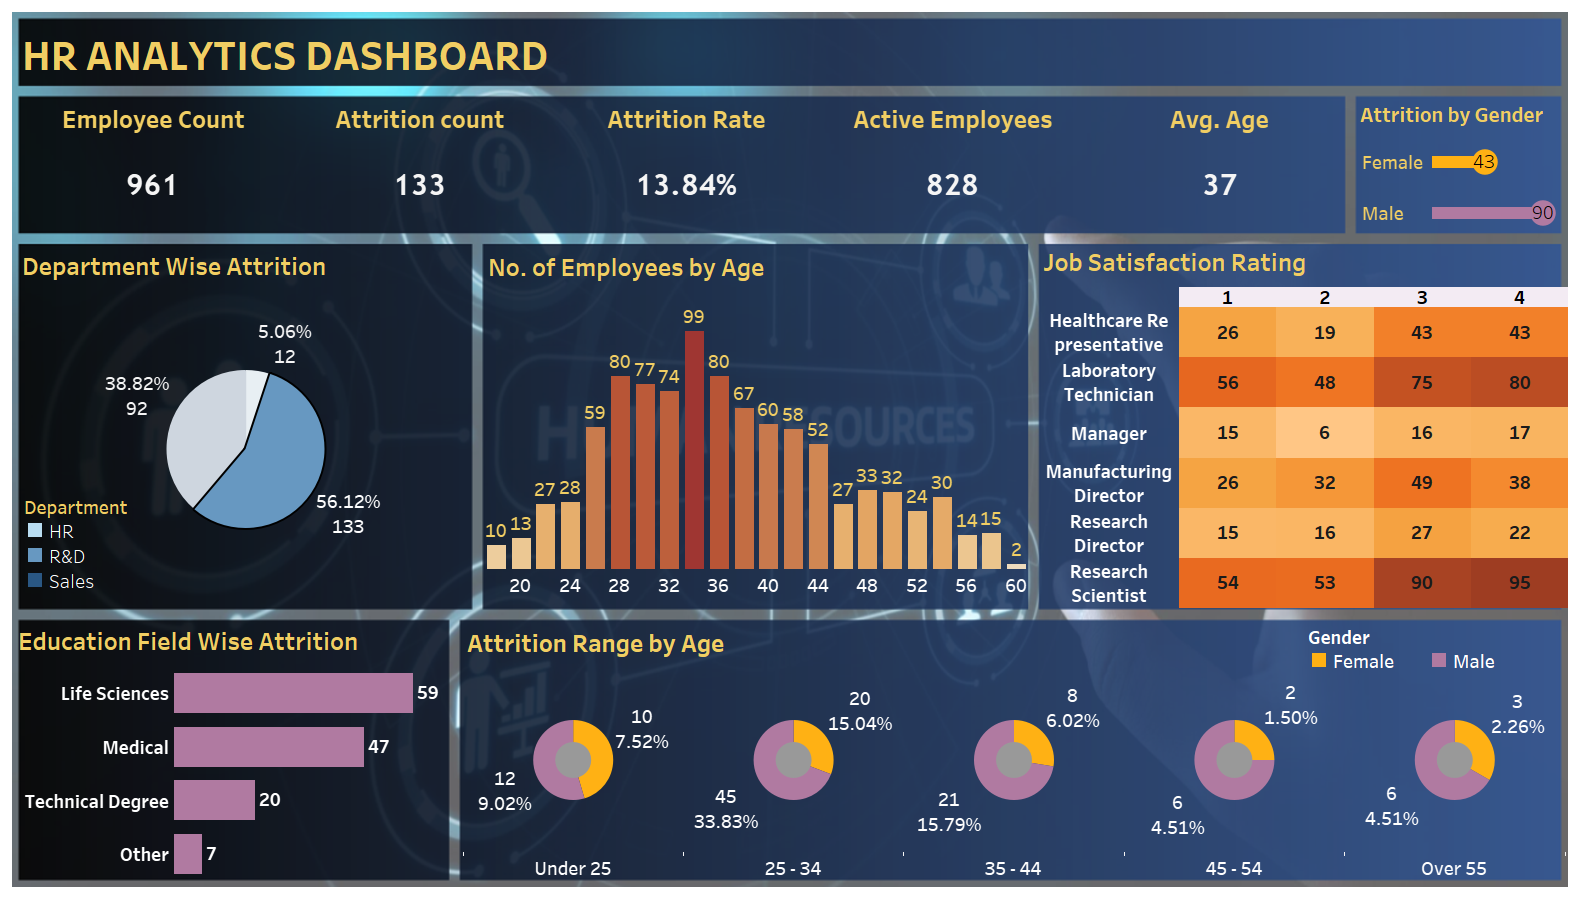

Layout of this report page (visuals, bound fields, positions):
{"tool":"tableau","page":{"name":"HR ANalytics dashboard","canvas":[1580,900],"ordinal":0},"visuals":[{"type":"image","param":"Image/HR background.pptx.png","box":[8,8,1564,884]},{"type":"text","box":[18,12,899,84]},{"type":"worksheet","title":"Attrition By Gender","mark":"Automatic","rows":["Gender"],"cols":["Calculation_1361775992679575553","Calculation_1361775992679575553"],"box":[1356,94,206,144]},{"type":"worksheet","title":"KPI","mark":"Automatic","box":[20,95,1333,140]},{"type":"worksheet","title":"Job Satisfactin","mark":"Square","rows":["Job Role"],"cols":["Job Satisfaction"],"box":[1039,239,529,369]},{"type":"worksheet","title":"Department wise Attrition","mark":"Pie","box":[18,243,455,364]},{"type":"worksheet","title":"number of Employee by agegroup","mark":"Automatic","rows":["Employee Count"],"cols":["Age (bin)"],"box":[484,244,545,366]},{"type":"legend","title":"Department wise Attrition","param":"[federated.0qlyg200at52zy1gh4psp1nz1kom].[none:Department:nk]","box":[23,492,118,115]},{"type":"worksheet","title":"Education Field Wise Attrition","mark":"Automatic","rows":["Education Field"],"cols":["Calculation_1361775992679575553"],"box":[14,618,443,263]},{"type":"worksheet","title":"Attrition range by gender","mark":"Pie","rows":["Calculation_1361775992731549703","Calculation_1361775992731549703"],"cols":["CF_age band"],"box":[463,620,1102,263]},{"type":"legend","title":"Attrition range by gender","param":"[federated.0qlyg200at52zy1gh4psp1nz1kom].[none:Gender:nk]","box":[1307,622,254,62]}]}

Visuals, with their boxes in screenshot pixels (x1, y1, x2, y2), scaled from the page's 1580x900 canvas onto the 1580x900 screenshot:
image: [8, 8, 1572, 892]
text: [18, 12, 917, 96]
"Attrition By Gender" worksheet: [1356, 94, 1562, 238]
"KPI" worksheet: [20, 95, 1353, 235]
"Job Satisfactin" worksheet (Square marks): [1039, 239, 1568, 608]
"Department wise Attrition" worksheet (Pie marks): [18, 243, 473, 607]
"number of Employee by agegroup" worksheet: [484, 244, 1029, 610]
"Department wise Attrition" legend: [23, 492, 141, 607]
"Education Field Wise Attrition" worksheet: [14, 618, 457, 881]
"Attrition range by gender" worksheet (Pie marks): [463, 620, 1565, 883]
"Attrition range by gender" legend: [1307, 622, 1561, 684]
